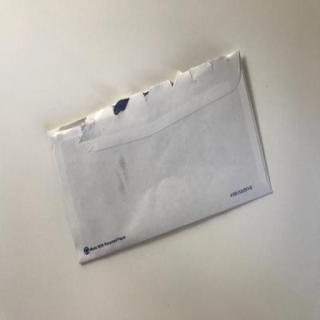PAPER: (46, 48, 271, 265)
